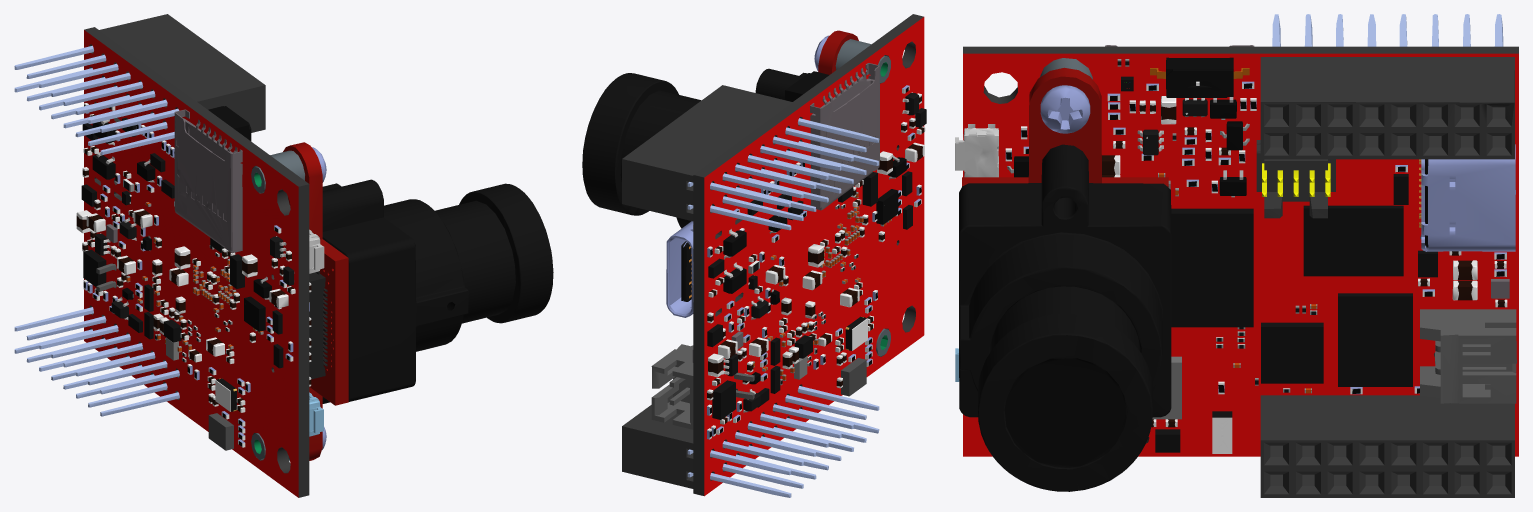
Rendered from sensor.obj.
3 renders of one model, left to right at view 1: azimuth 30°, elevation 25°; view 2: azimuth 150°, elevation 25°; view 3: azimuth 270°, elevation 25°, orthographic. The views are drawn at different scales.
Visible parts, largest first — view 1: n6; view 2: n6; view 3: n6.
Part boxes in pixels (<box>): n6: <box>14,14,553,497</box>; n6: <box>582,14,926,497</box>; n6: <box>955,14,1518,497</box>.
Bounding box in the file's own units: 0.0405 × 0.0359 × 0.0451.
